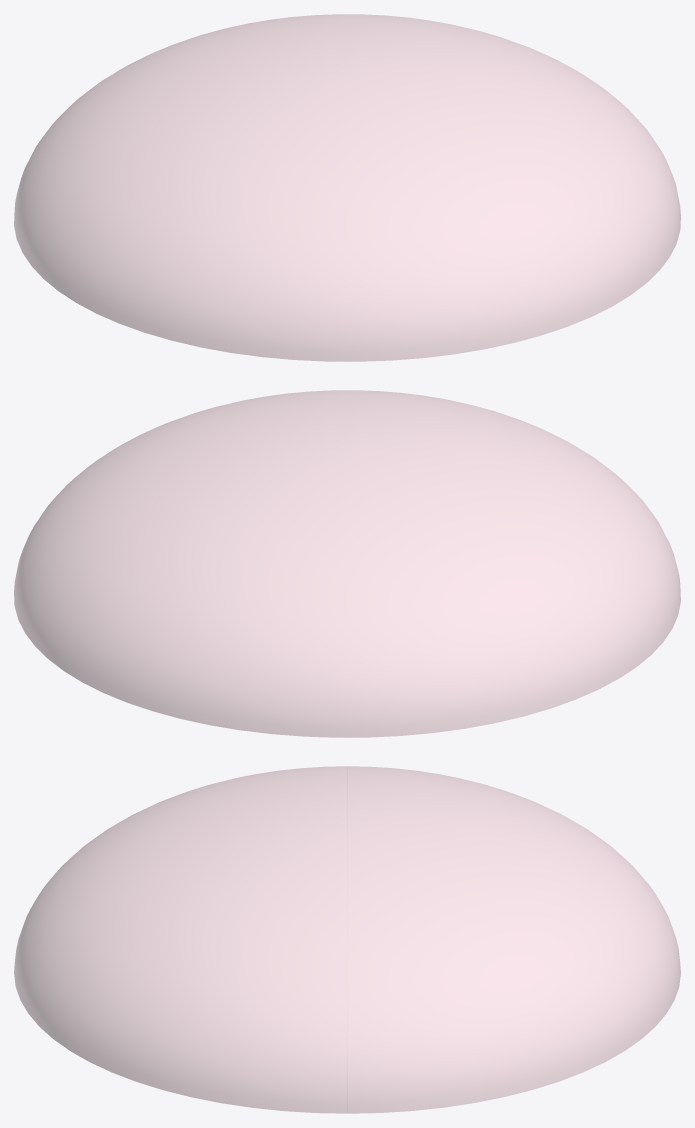
File: rosequartz.glb
3 renders of one model, top to bottom at view 1: azimuth 30°, elevation 25°; view 2: azimuth 150°, elevation 25°; view 3: azimuth 270°, elevation 25°, orthographic.
Parts seen in each view (by area): view 1: rosequartz; view 2: rosequartz; view 3: rosequartz.
Part boxes in pixels (x1,y1,x2,y2): rosequartz: (14, 14, 680, 361); rosequartz: (14, 390, 680, 737); rosequartz: (14, 766, 680, 1113).
Bounding box in the file's own units: 0.25 × 0.0625 × 0.25.
